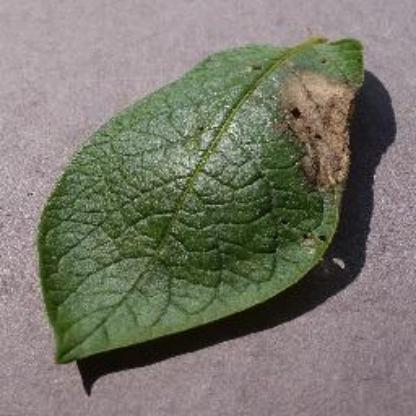Late-Blight: (48, 21, 378, 371)
